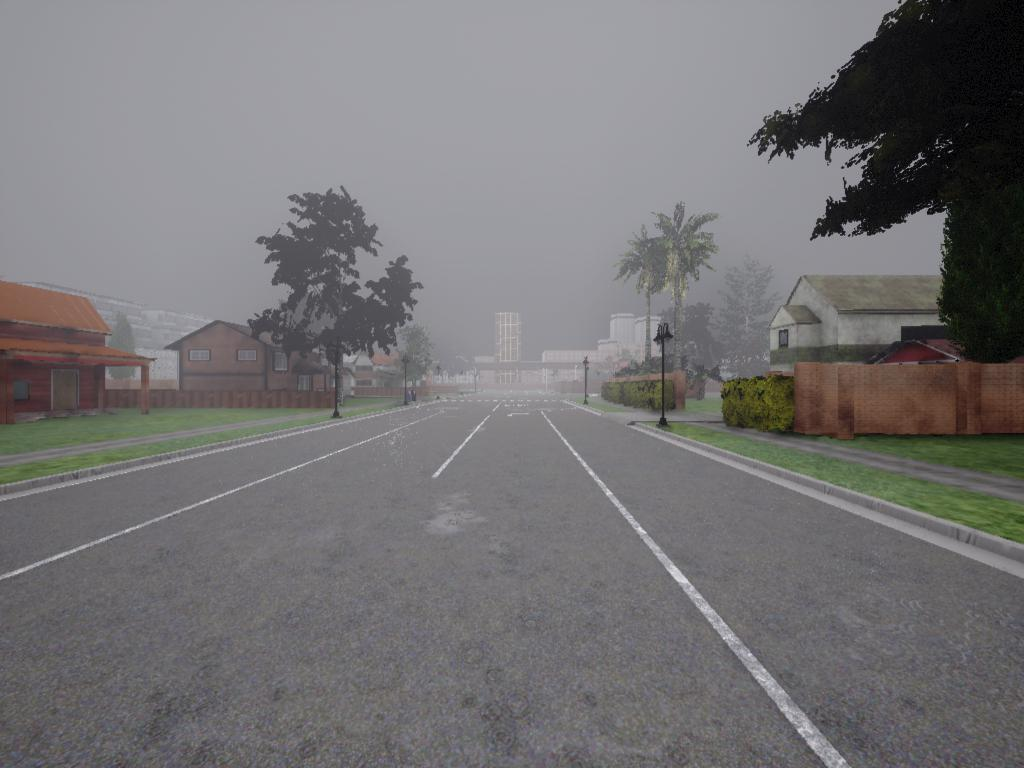traffic_light: (525, 373, 528, 376), (534, 373, 535, 377)
